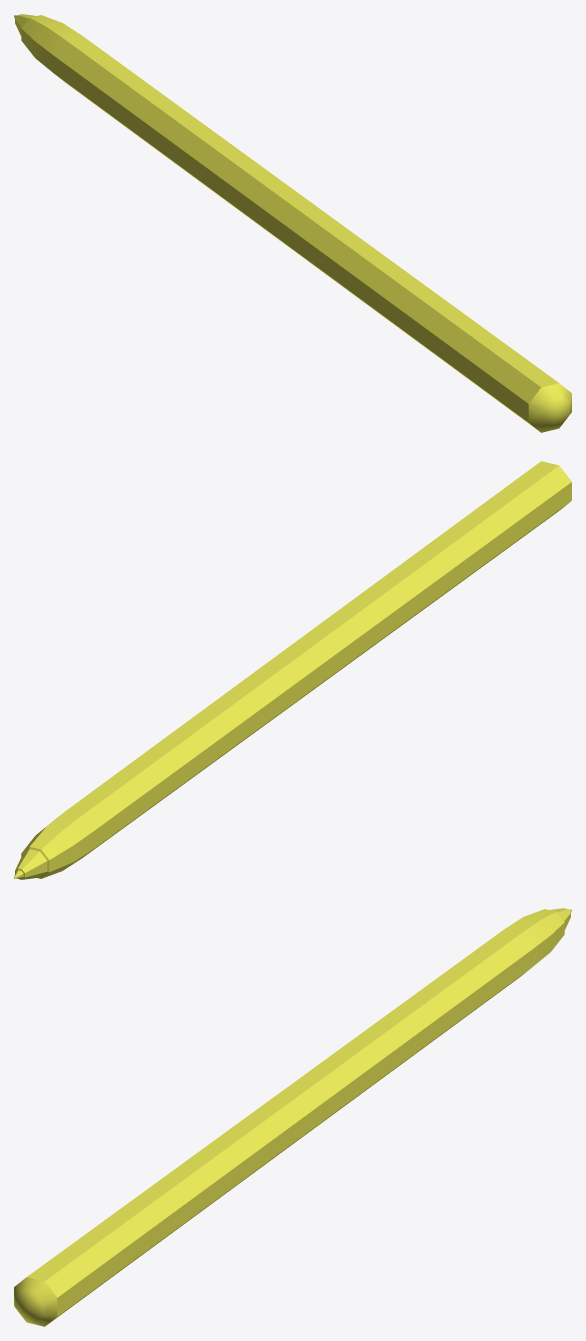
The model's file is Lapicera 2.fbx.
3 views of the same model, one above another, from view 1: azimuth 30°, elevation 25°; view 2: azimuth 150°, elevation 25°; view 3: azimuth 330°, elevation 25° (orthographic).
Parts seen in each view (by area): view 1: Lapicera_2; view 2: Lapicera_2; view 3: Lapicera_2.
Part boxes in pixels (bbox=[...]): Lapicera_2: bbox=[14, 14, 571, 432]; Lapicera_2: bbox=[14, 461, 571, 879]; Lapicera_2: bbox=[14, 908, 571, 1326].
Bounding box in the file's own units: 0.00602 × 0.00602 × 0.1306.
